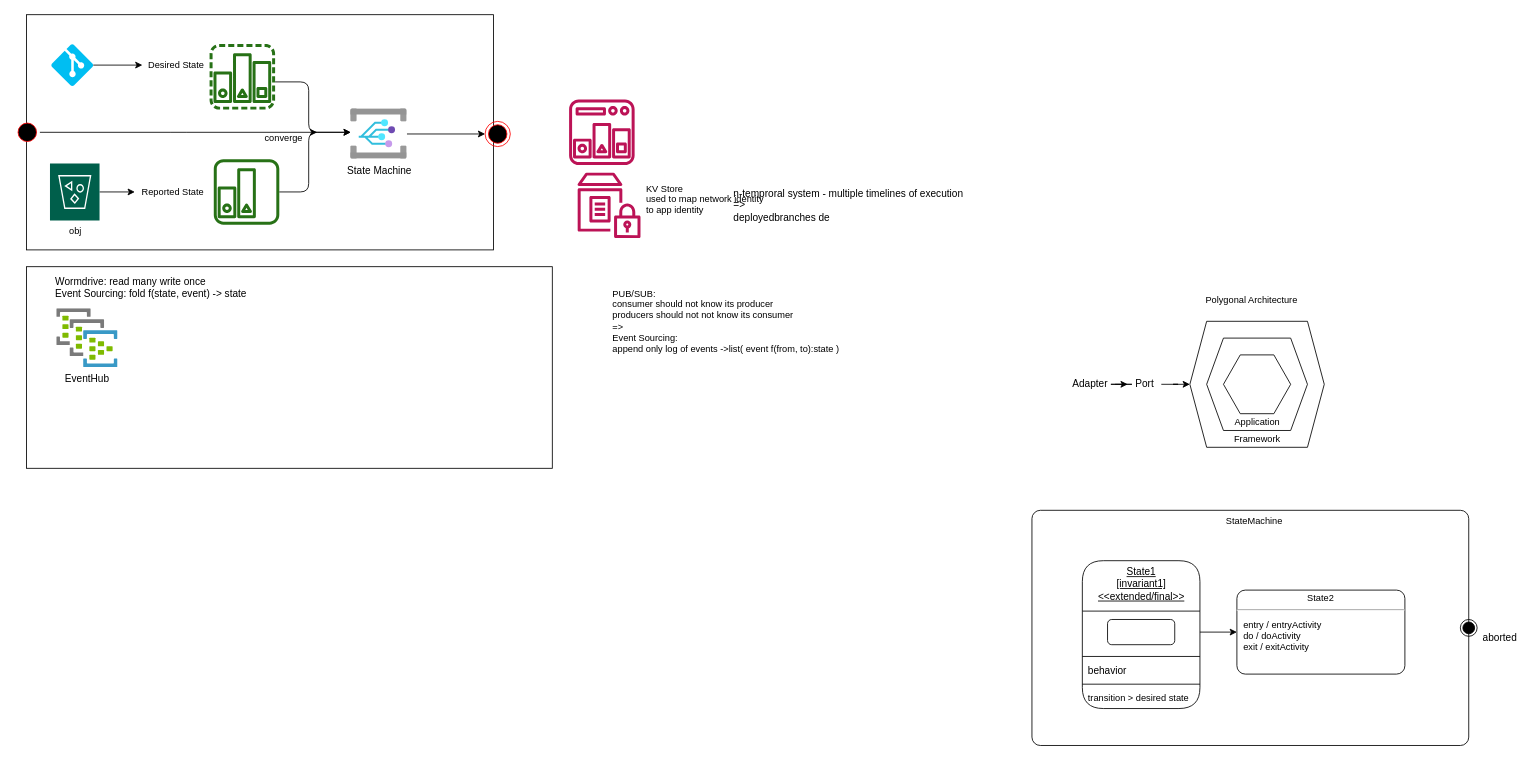
This 1532x760 diagram has some shape labels left out. The shapes that lost their labels are listed below. From the top down, each one's centre as x and y in pixels, then its label:
At pixel 72 65: "git".
At pixel 1257 384: "Domain".
At pixel 1141 632: "State2".
